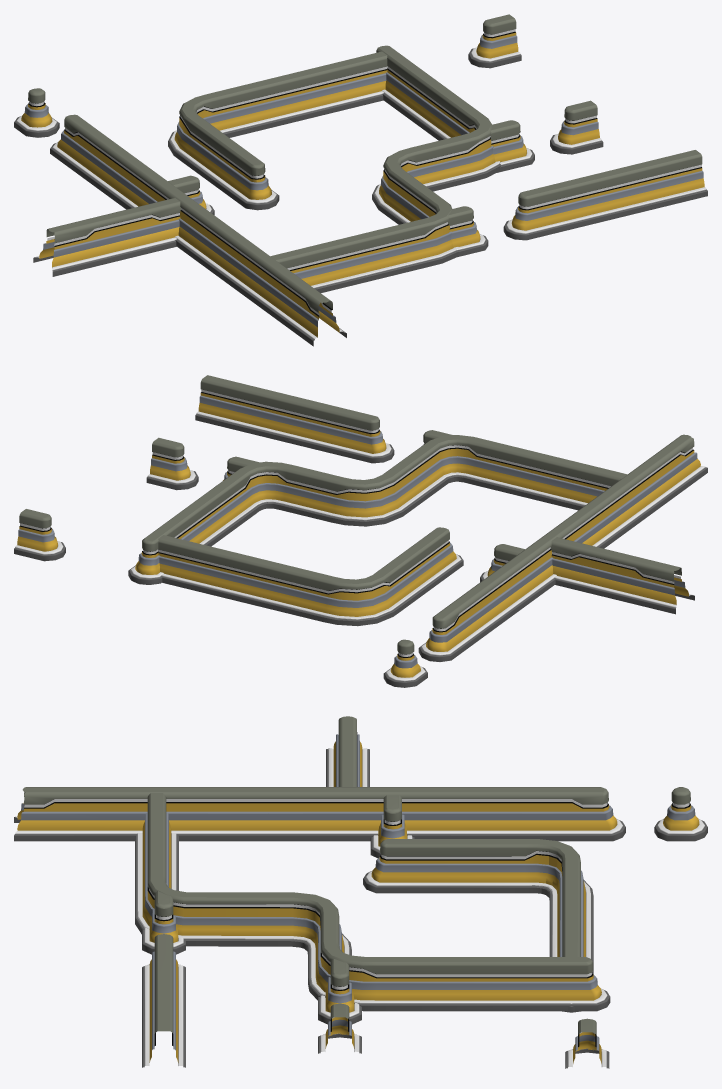
Rendered from Small walls.fbx.
3 renders of one model, top to bottom at view 1: azimuth 30°, elevation 25°; view 2: azimuth 150°, elevation 25°; view 3: azimuth 270°, elevation 25°, orthographic. The views are drawn at different scales.
Parts seen in each view (by area): view 1: Small_wall_, Small_wall_L45, Small_wallv1_18, Small_wall_L6, Small_wallv1_4, Small_wall_L71, Small_wall_L74, Small_wall_L73, Small_wallv1_59, Small_wall_L75, Small_wall_L72; view 2: Small_wall_, Small_wall_L45, Small_wallv1_18, Small_wall_L6, Small_wallv1_4, Small_wall_L74, Small_wall_L71, Small_wallv1_59, Small_wall_L72; view 3: Small_wallv1_18, Small_wall_, Small_wall_L45, Small_wall_L6, Small_wallv1_4, Small_wallv1_59, Small_wall_L73, Small_wall_L75, Small_wall_L72, Small_wall_L71, Small_wall_L74.
Boxes of the visible parts, box(x1,y1,x2,y2) form: Small_wall_: box(270, 45, 501, 292); Small_wall_L45: box(168, 51, 387, 210); Small_wallv1_18: box(50, 114, 346, 346); Small_wall_L6: box(503, 150, 707, 240); Small_wallv1_4: box(33, 198, 181, 276); Small_wall_L71: box(468, 14, 521, 68); Small_wall_L74: box(550, 100, 603, 154); Small_wall_L73: box(490, 120, 534, 172); Small_wallv1_59: box(14, 88, 59, 137); Small_wall_L75: box(448, 206, 488, 256); Small_wall_L72: box(168, 175, 214, 215); Small_wall_: box(128, 435, 627, 584); Small_wall_L45: box(158, 527, 463, 626); Small_wallv1_18: box(418, 434, 707, 661); Small_wall_L6: box(195, 375, 394, 463); Small_wallv1_4: box(550, 537, 694, 614); Small_wall_L74: box(146, 437, 198, 490); Small_wall_L71: box(14, 509, 65, 561); Small_wallv1_59: box(383, 639, 427, 687); Small_wall_L72: box(480, 544, 524, 582); Small_wallv1_18: box(14, 787, 625, 841); Small_wall_: box(135, 793, 610, 1011); Small_wall_L45: box(363, 839, 593, 1012); Small_wall_L6: box(142, 934, 185, 1067); Small_wallv1_4: box(326, 716, 369, 786); Small_wallv1_59: box(654, 787, 707, 841); Small_wall_L73: box(318, 958, 361, 1024); Small_wall_L75: box(142, 891, 185, 954); Small_wall_L72: box(370, 795, 414, 858); Small_wall_L71: box(565, 1018, 609, 1068); Small_wall_L74: box(318, 1003, 361, 1053).
Size of the model in its own units: 590 by 38.67 by 543.
